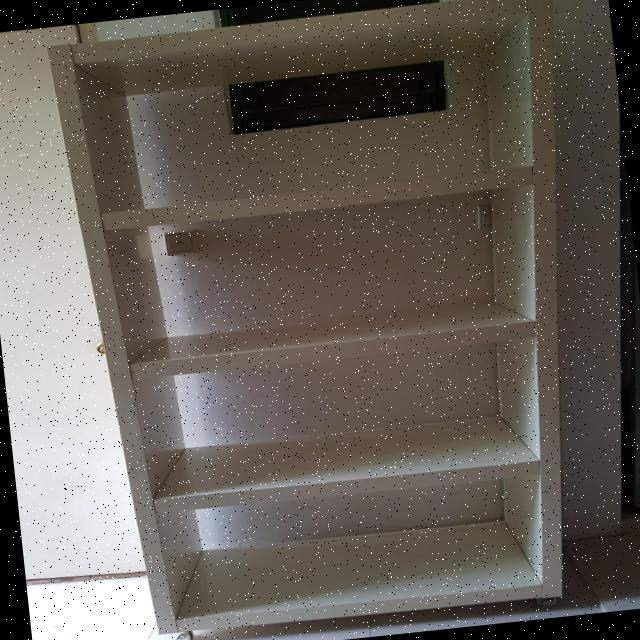Shelf: (34, 0, 625, 640)
